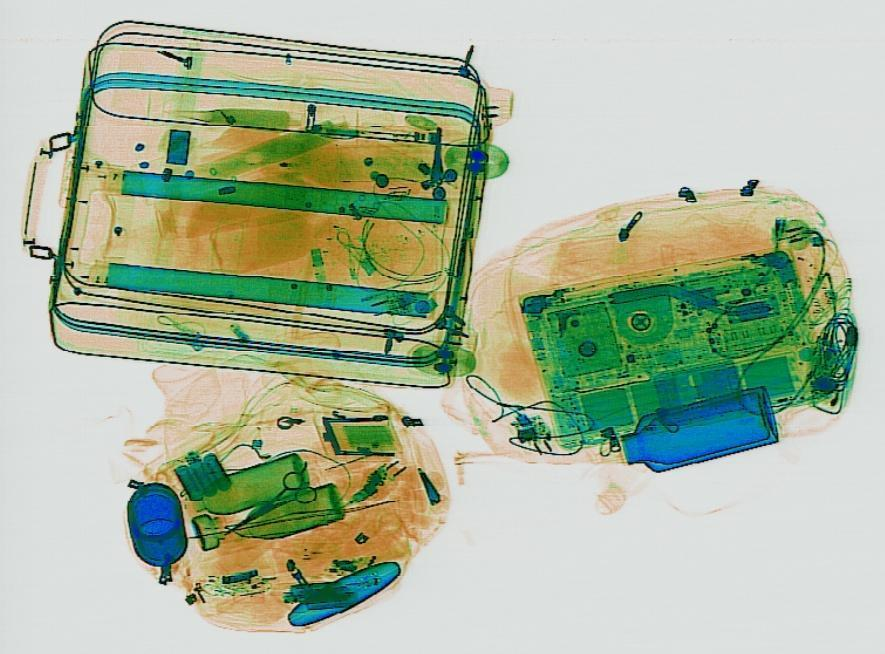Scissors: (207, 466, 330, 548)
